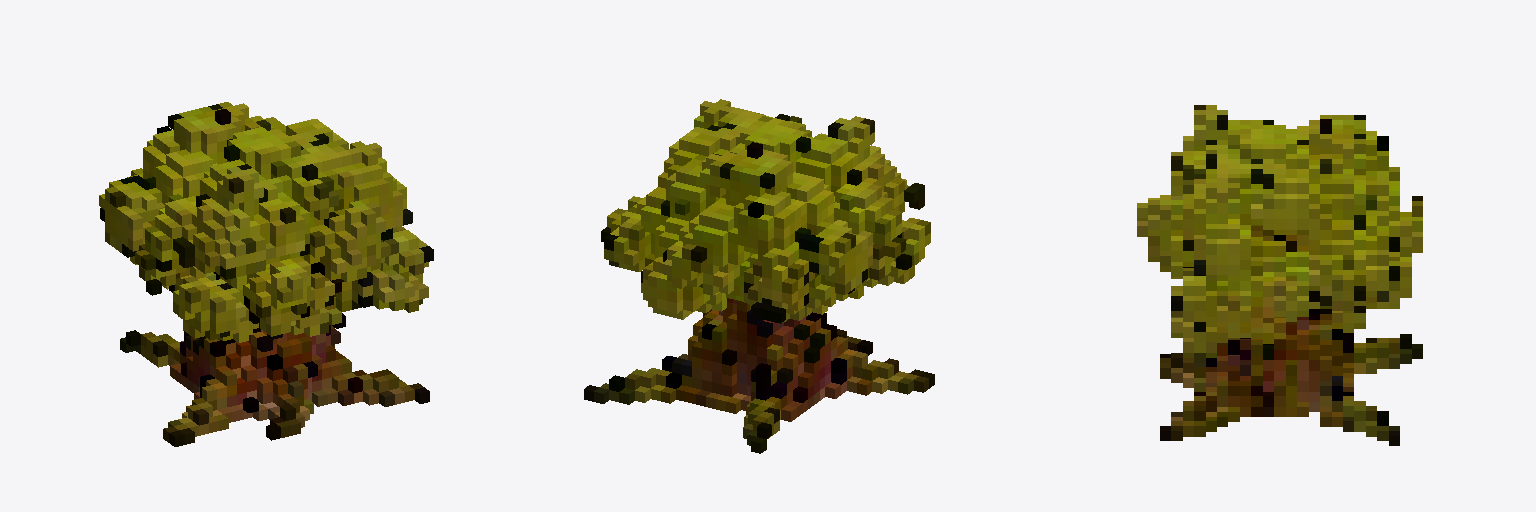
Rendered from iter_120.obj.
The picture shows the model from 3 angles: view 1: azimuth 30°, elevation 25°; view 2: azimuth 150°, elevation 25°; view 3: azimuth 270°, elevation 25°; orthographic projection.
Visible parts, largest first — view 1: iter_120; view 2: iter_120; view 3: iter_120.
Part boxes in pixels (x1,y1,x2,y2): iter_120: (99, 102, 433, 446); iter_120: (584, 99, 934, 453); iter_120: (1137, 105, 1422, 445).
Bounding box in the file's own units: 2.5 × 2.5 × 2.5.